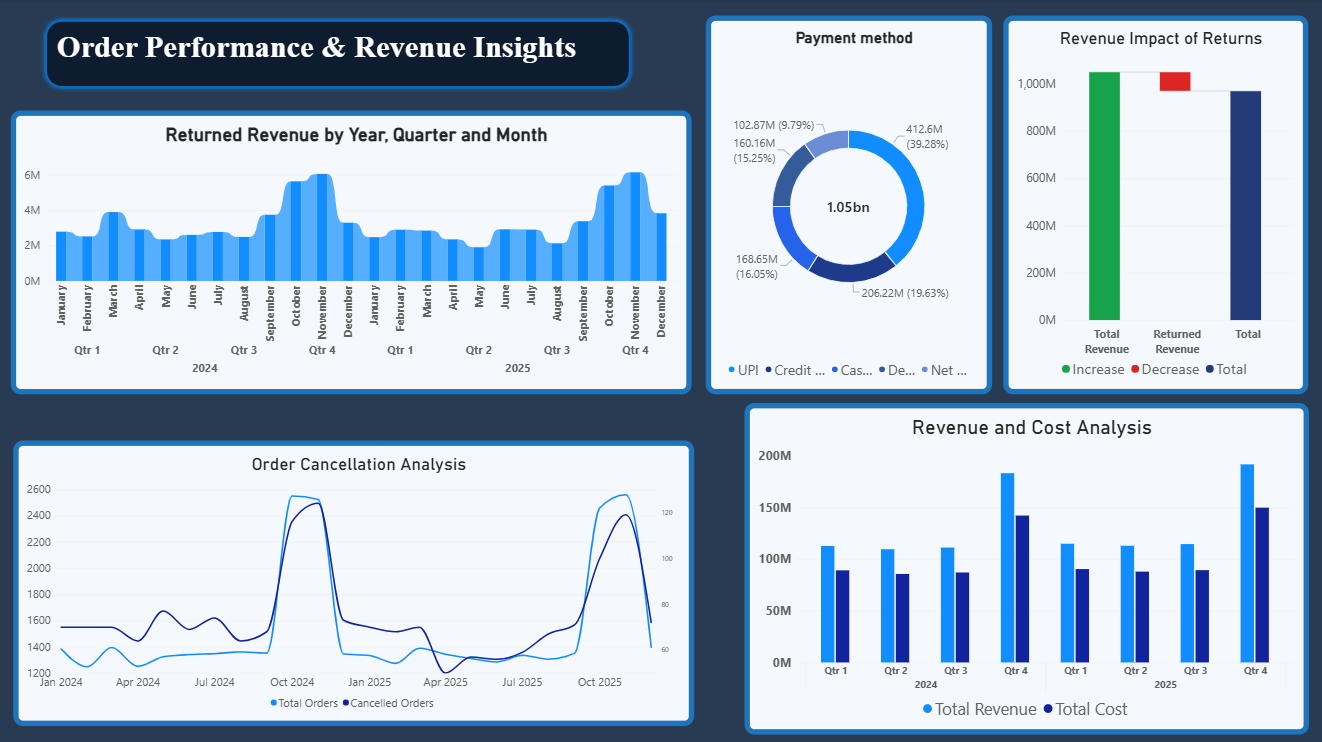

What the dashboard file says about the page in this screenshot:
{"tool":"powerbi","page":{"name":"Page 3","canvas":[2560,1440],"ordinal":2},"visuals":[{"type":"donutChart","title":"Payment method","fields":{"Category":["ORDERS F L data.Payment_Method"],"Y":["ORDERS F L data.Total Revenue"]},"box":[1368.1,33.8,552.5,731.1],"z":4000},{"type":"lineChart","title":"Order Cancellation Analysis","fields":{"Category":["ORDERS F L data.Year Month.Variation.Date Hierarchy.Year","ORDERS F L data.Year Month.Variation.Date Hierarchy.Quarter","ORDERS F L data.Year Month.Variation.Date Hierarchy.Month"],"Y":["CUSTOMERS F L data.Total Orders"],"Y2":["CUSTOMERS F L data.Cancelled Orders"]},"box":[30.6,854.5,1314,551.5],"z":5000},{"type":"ribbonChart","fields":{"Category":["ORDERS F L data.Year Month.Variation.Date Hierarchy.Year","ORDERS F L data.Year Month.Variation.Date Hierarchy.Quarter","ORDERS F L data.Year Month.Variation.Date Hierarchy.Month"],"Y":["CUSTOMERS F L data.Returned Revenue"]},"box":[27.2,217.9,1314,548.1],"z":6000},{"type":"waterfallChart","title":"Revenue Impact of Returns","fields":{"Category":["Stage.Stage"],"Y":["Revenue Leakage Stages.Revenue Leakage Value"]},"box":[1942.4,33.8,588.7,731.1],"z":7000},{"type":"clusteredColumnChart","title":"Revenue and Cost Analysis","fields":{"Category":["ORDERS F L data.Year Month.Variation.Date Hierarchy.Year","ORDERS F L data.Year Month.Variation.Date Hierarchy.Quarter"],"Y":["ORDERS F L data.Total Revenue","CUSTOMERS F L data.Total Cost"]},"box":[1443.4,783,1089.4,640],"z":8000},{"type":"shape","box":[85.1,32.9,1147.2,148.2],"z":9000},{"type":"textbox","box":[115.7,61.3,1116.6,119.1],"z":10000}]}

Visuals, with their boxes in screenshot pixels (x1, y1, x2, y2), scaled from the page's 2560x1440 canvas onto the 1322x742 screenshot:
"Payment method" donutChart: x1=706, y1=17, x2=992, y2=394
"Order Cancellation Analysis" lineChart: x1=16, y1=440, x2=694, y2=724
ribbonChart - ORDERS F L data.Year Month.Variation.Date Hierarchy.Year x ORDERS F L data.Year Month.Variation.Date Hierarchy.Quarter: x1=14, y1=112, x2=693, y2=395
"Revenue Impact of Returns" waterfallChart: x1=1003, y1=17, x2=1307, y2=394
"Revenue and Cost Analysis" clusteredColumnChart: x1=745, y1=403, x2=1308, y2=733
shape: x1=44, y1=17, x2=636, y2=93
textbox: x1=60, y1=32, x2=636, y2=93
